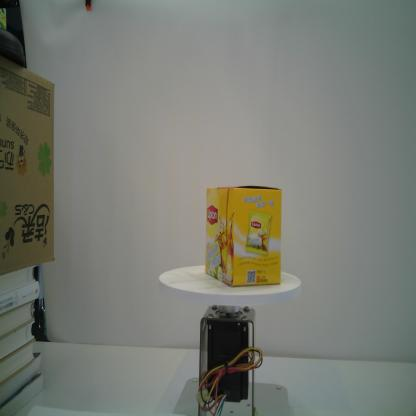Instant Drink: (204, 183, 283, 287)
